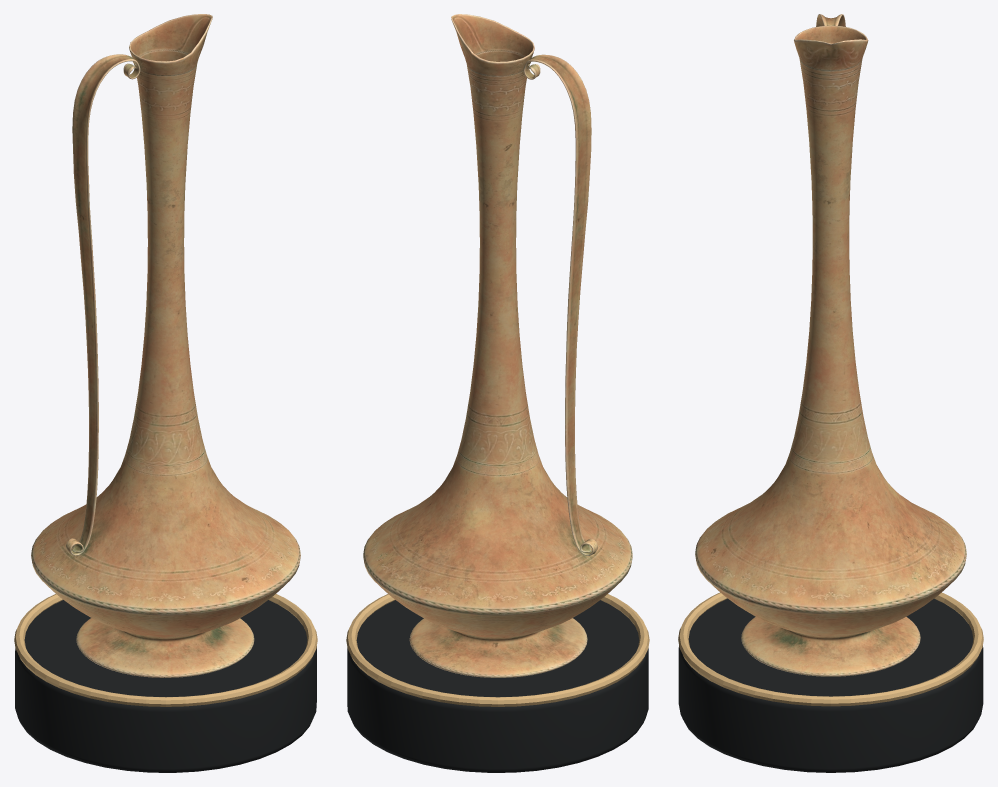
File: hp_room_cc0_brass_vase_02.glb
The picture shows the model from 3 angles, left to right: view 1: azimuth 30°, elevation 25°; view 2: azimuth 150°, elevation 25°; view 3: azimuth 270°, elevation 25°; orthographic projection.
Visible parts, largest first — view 1: brass_vase_02, hp_museum_low_black_plinth, hp_museum_plinth_brass_lip; view 2: brass_vase_02, hp_museum_low_black_plinth, hp_museum_plinth_brass_lip; view 3: brass_vase_02, hp_museum_low_black_plinth, hp_museum_plinth_brass_lip.
Boxes of the visible parts, box(x1,y1,x2,y2) form: brass_vase_02: box(31, 14, 300, 677); hp_museum_low_black_plinth: box(15, 600, 316, 772); hp_museum_plinth_brass_lip: box(14, 594, 317, 706); brass_vase_02: box(363, 14, 632, 677); hp_museum_low_black_plinth: box(347, 600, 648, 772); hp_museum_plinth_brass_lip: box(346, 594, 649, 706); brass_vase_02: box(695, 14, 966, 676); hp_museum_low_black_plinth: box(678, 598, 983, 772); hp_museum_plinth_brass_lip: box(678, 592, 983, 706).
Bounding box in the file's own units: 0.4653 × 1.16 × 0.4653.
Materials: 3 (1 with a texture image).
